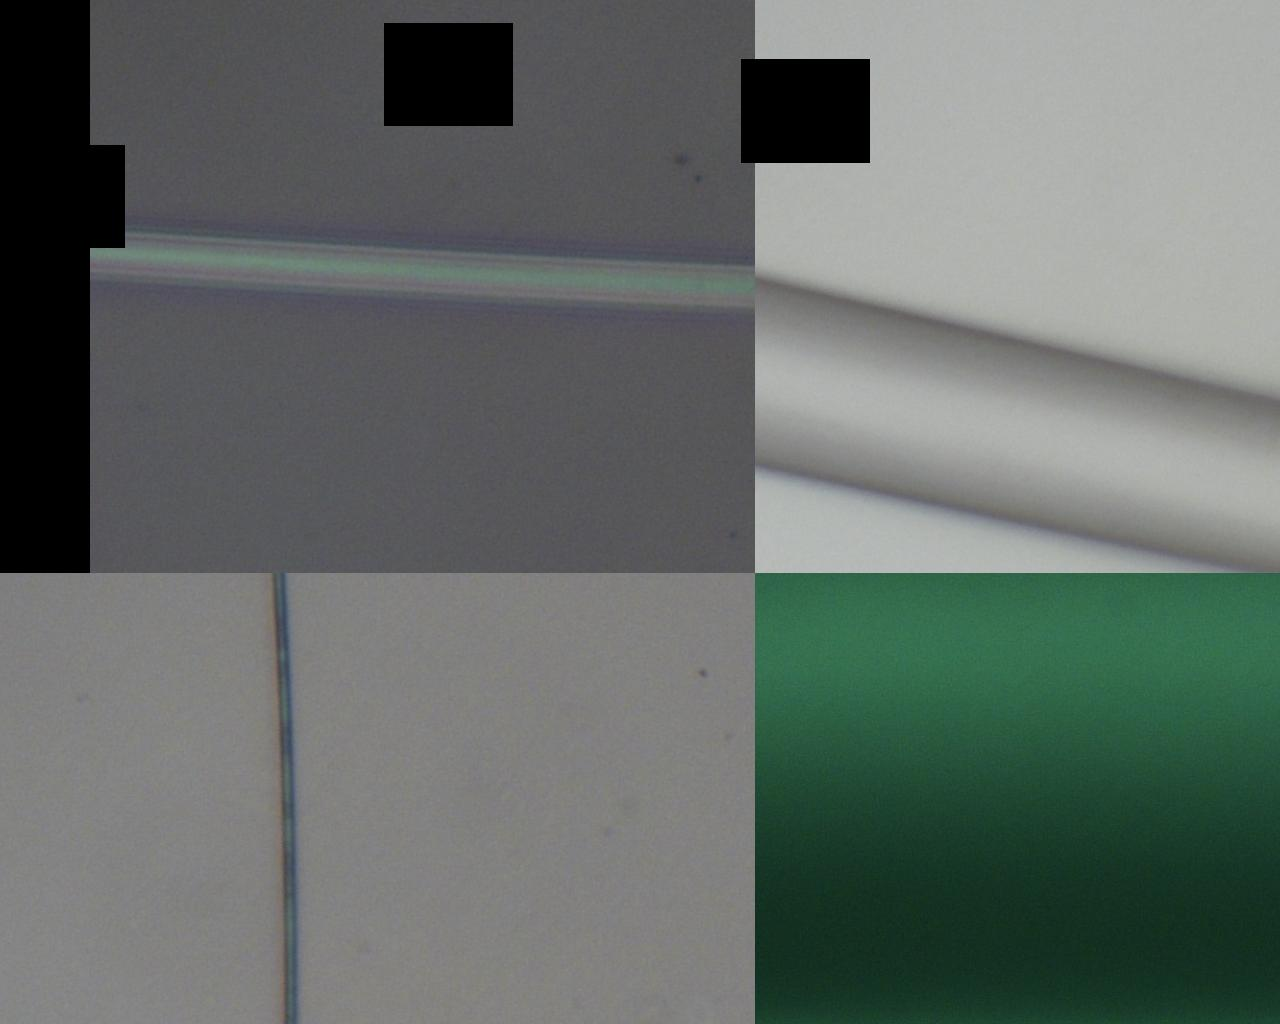fiber: (441, 0, 870, 1024)
